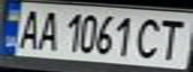0: (78, 11, 100, 54)
1: (112, 14, 136, 57), (60, 10, 81, 53)
6: (93, 11, 118, 56)
A: (12, 7, 45, 51), (33, 7, 60, 52)
C: (133, 15, 166, 61)
T: (154, 16, 190, 62)
